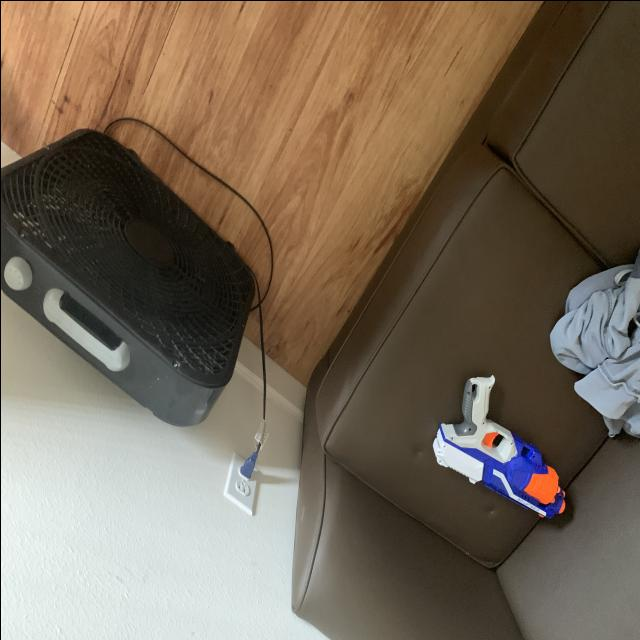nerf-maverik: (425, 367, 566, 527)
